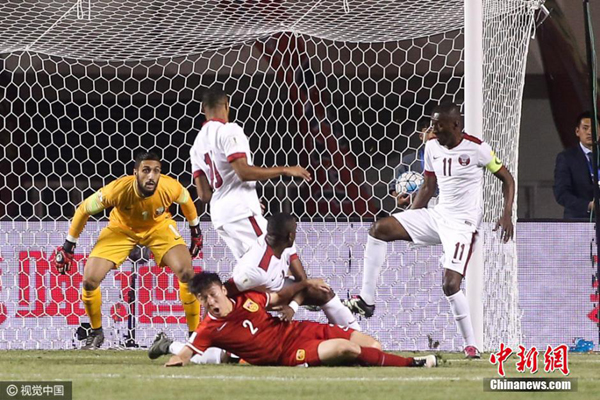fall: (152, 268, 454, 374)
